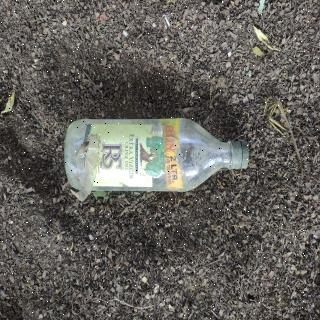Plastic-bottle: (62, 110, 252, 198)
